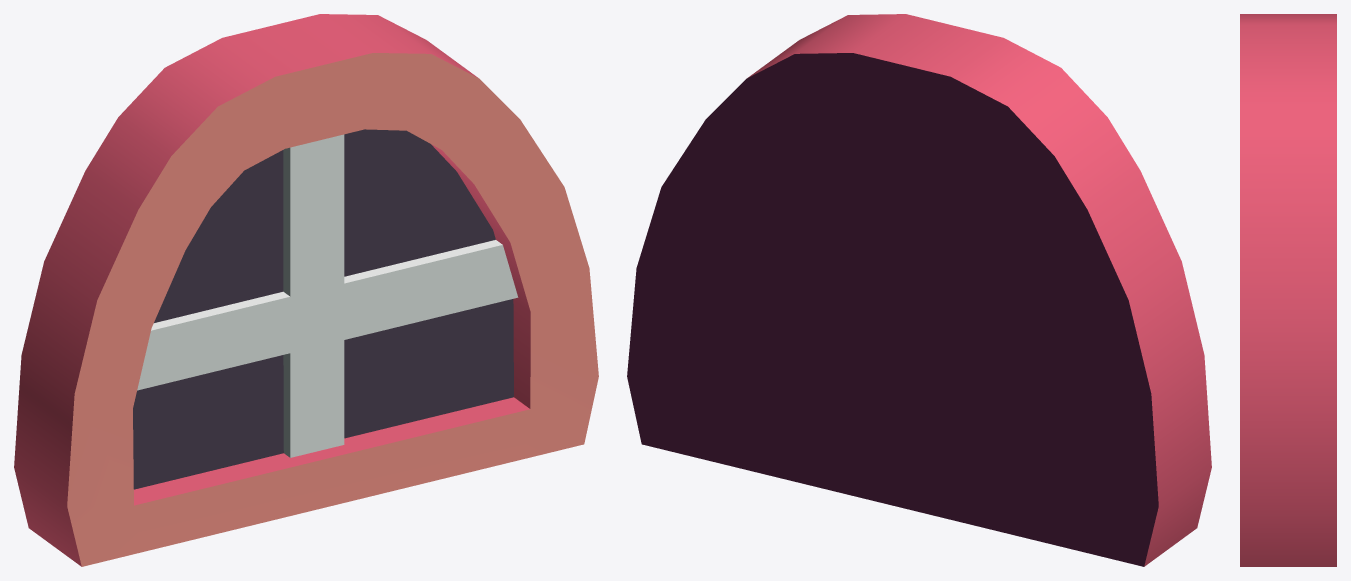
The model's file is Window03_Pink_White.glb.
3 renders of one model, left to right at view 1: azimuth 30°, elevation 25°; view 2: azimuth 150°, elevation 25°; view 3: azimuth 270°, elevation 25°, orthographic. The views are drawn at different scales.
Visible parts, largest first — view 1: Window03_Pink_White; view 2: Window03_Pink_White; view 3: Window03_Pink_White.
Part boxes in pixels (bbox=[...]): Window03_Pink_White: bbox=[14, 14, 598, 566]; Window03_Pink_White: bbox=[627, 14, 1211, 566]; Window03_Pink_White: bbox=[1240, 14, 1336, 566].
Size of the model in its own units: 0.9047 by 0.7203 by 0.1565.
Materials: 1 (1 with a texture image).
